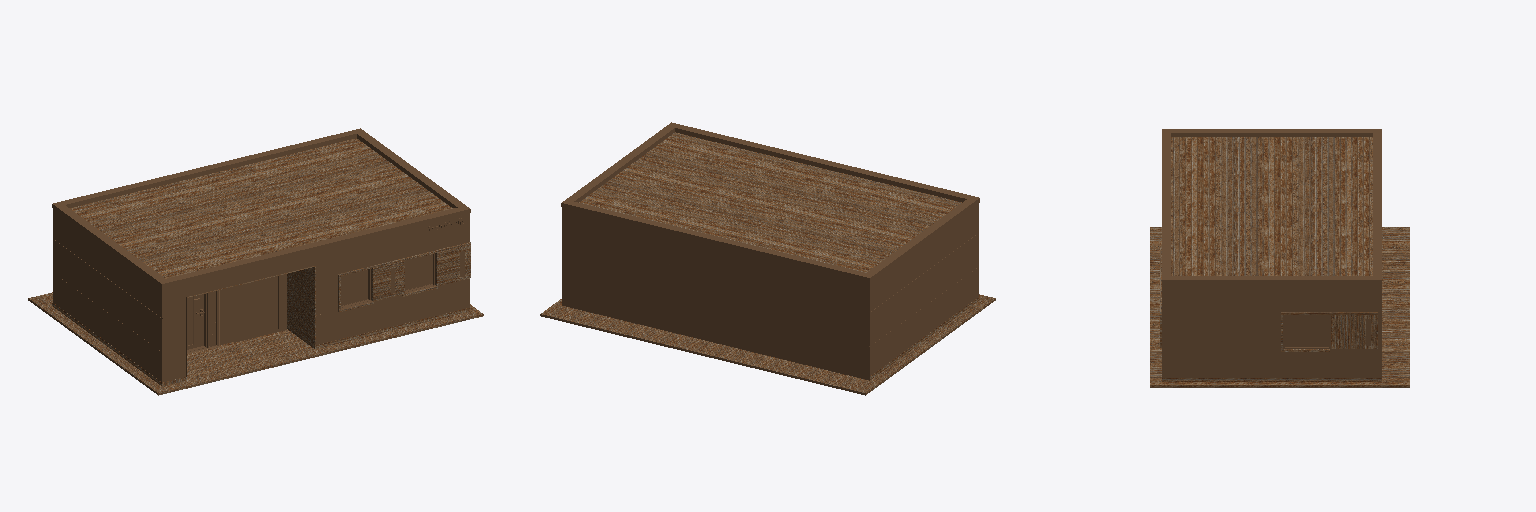
3 views of the same model, side by side, from view 1: azimuth 30°, elevation 25°; view 2: azimuth 150°, elevation 25°; view 3: azimuth 270°, elevation 25° (orthographic).
Parts seen in each view (by area): view 1: 3d_model; view 2: 3d_model; view 3: 3d_model.
Boxes of the visible parts, box(x1,y1,x2,y2) form: 3d_model: box(28, 128, 483, 395); 3d_model: box(540, 122, 995, 395); 3d_model: box(1150, 129, 1409, 387).
Size of the model in its own units: 344 by 106 by 238.
1 materials, 1 textured.